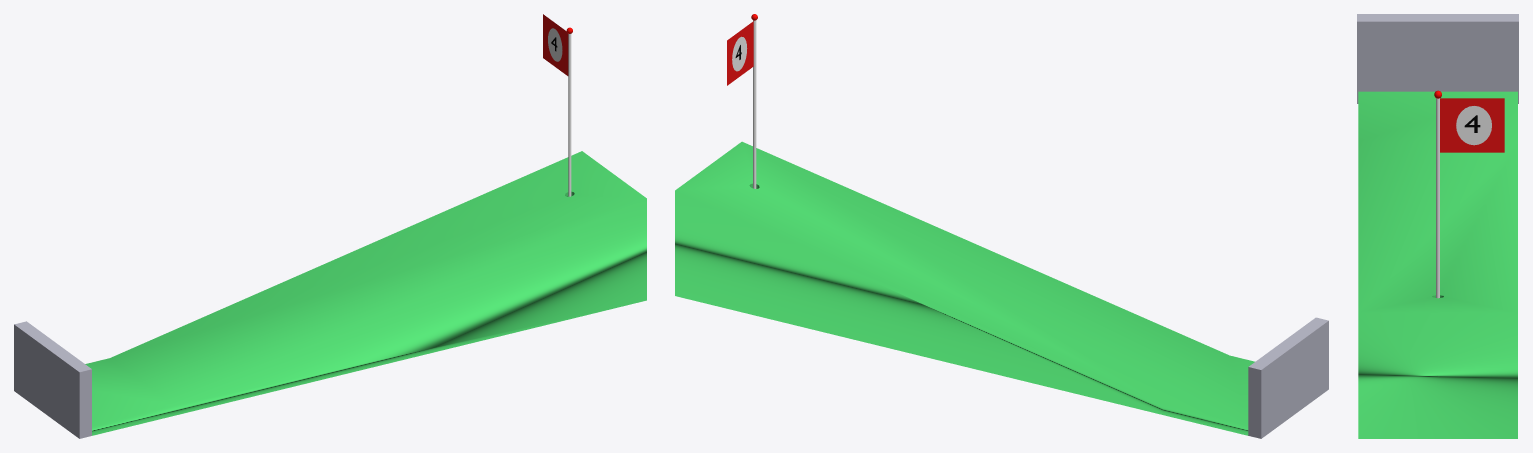
The model's file is bane4.fbx.
3 renders of one model, left to right at view 1: azimuth 30°, elevation 25°; view 2: azimuth 150°, elevation 25°; view 3: azimuth 270°, elevation 25°, orthographic. The views are drawn at different scales.
Visible parts, largest first — view 1: bane, Cube, Plane.003, Cylinder.003; view 2: bane, Cube, Plane.003, Cylinder.003; view 3: bane, Cube, Plane.003, Circle.003, Cylinder.003.
Part boxes in pixels (<box>): bane: <box>85,151,646,435</box>; Cube: <box>14,321,91,438</box>; Plane.003: <box>543,14,568,75</box>; Cylinder.003: <box>568,33,571,196</box>; bane: <box>675,141,1254,435</box>; Cube: <box>1248,317,1328,438</box>; Plane.003: <box>727,21,753,85</box>; Cylinder.003: <box>753,20,756,188</box>; bane: <box>1358,91,1517,438</box>; Cube: <box>1357,14,1518,103</box>; Plane.003: <box>1440,98,1504,152</box>; Circle.003: <box>1456,106,1491,145</box>; Cylinder.003: <box>1436,98,1439,298</box>.
Size of the model in its own units: 405 by 177 by 80.86.
